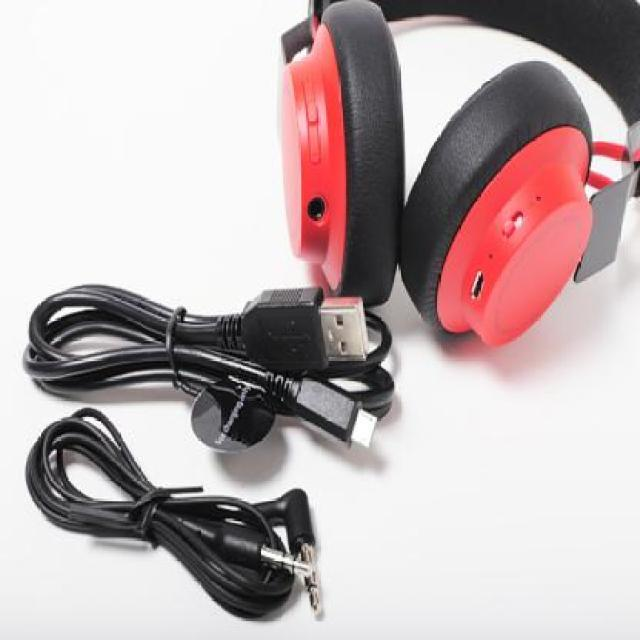earphone: (261, 0, 640, 343)
